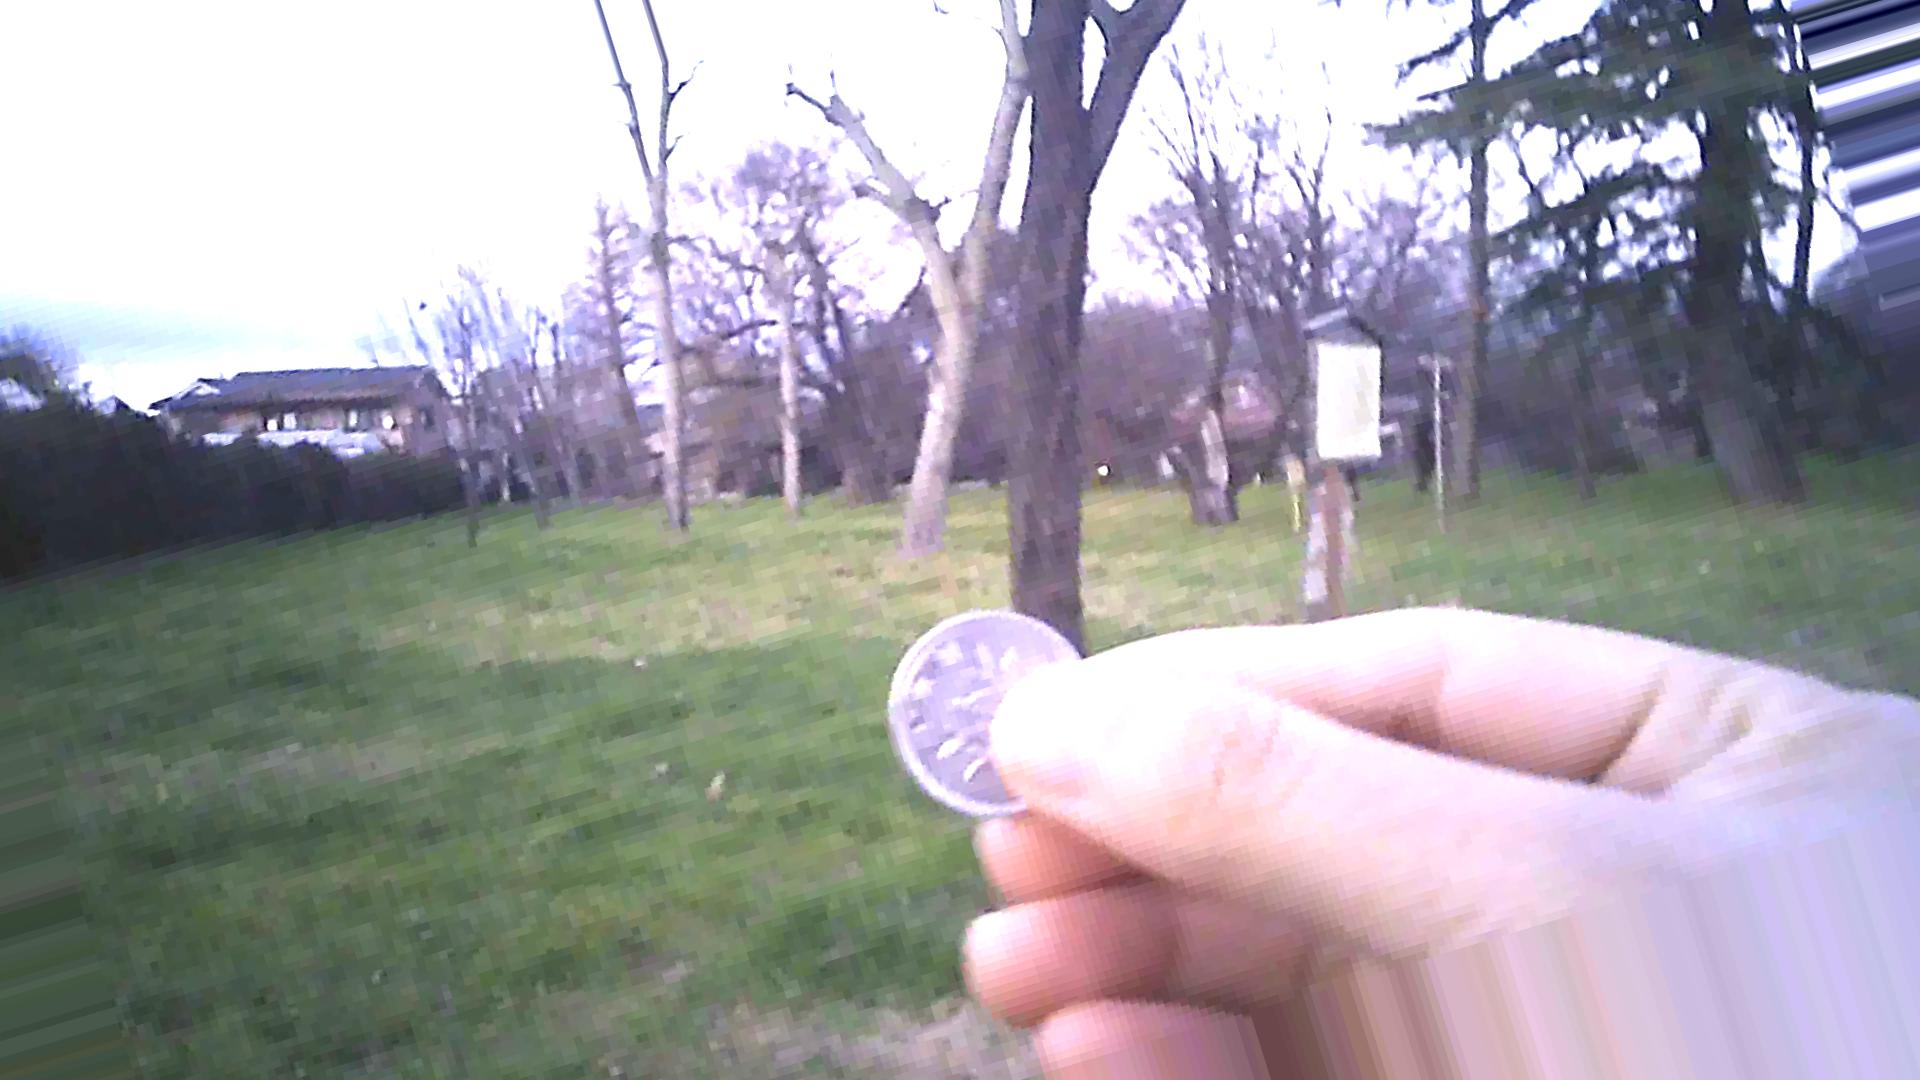1 Yen: (884, 611, 1077, 810)
